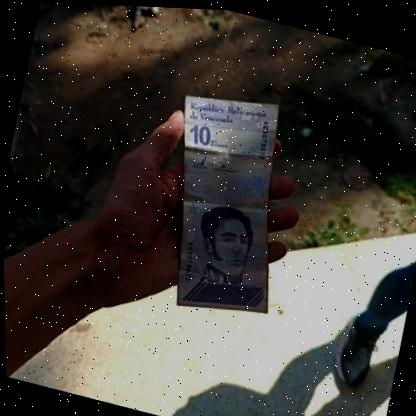ten-front-vef: (140, 80, 311, 326)
